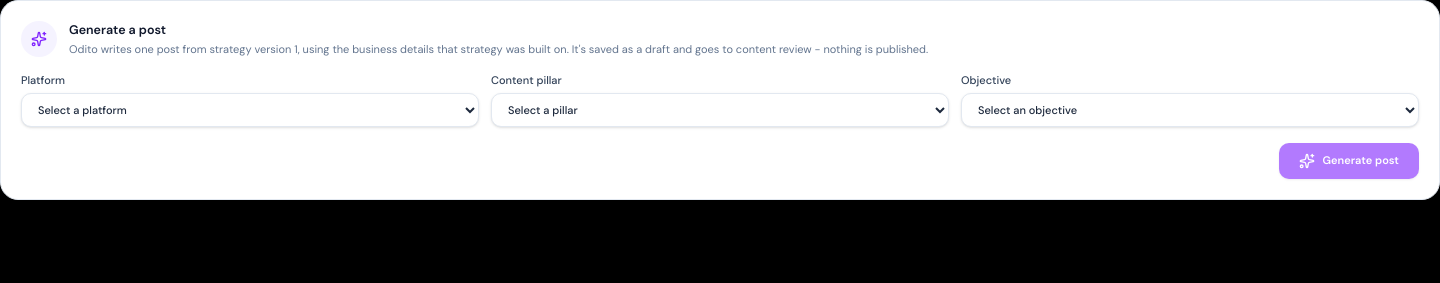
it: Single-post generator - the result is the REAL saved draft › if the draft was deleted afterwards, it says so instead of showing invented content
This screenshot has width=1440, height=283.
Expected: the button with test id "generate-post-button" is shown, [1279,143,1419,179]
Select "Facebook" in the dropdown with test id "generator-platform". click: (250, 110)
box: [21,93,479,127]
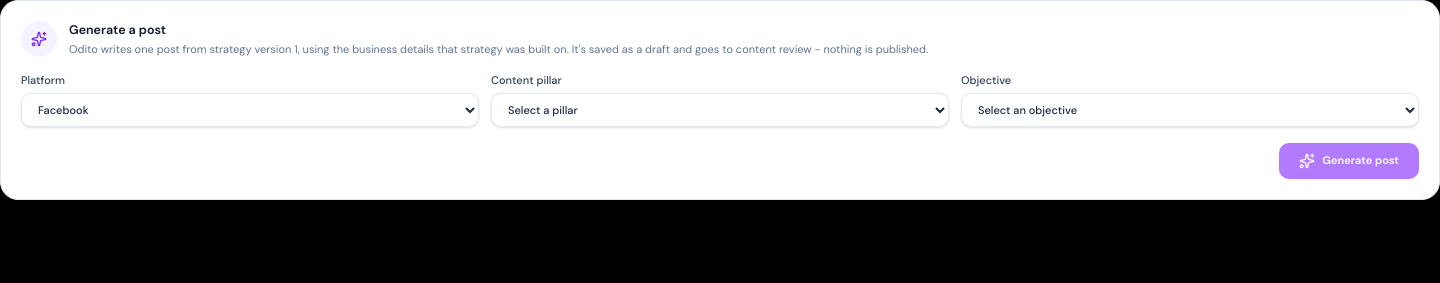
Select "Dental tips" in the dropdown with test id "generator-pillar". click: (720, 110)
box: [491,93,949,127]
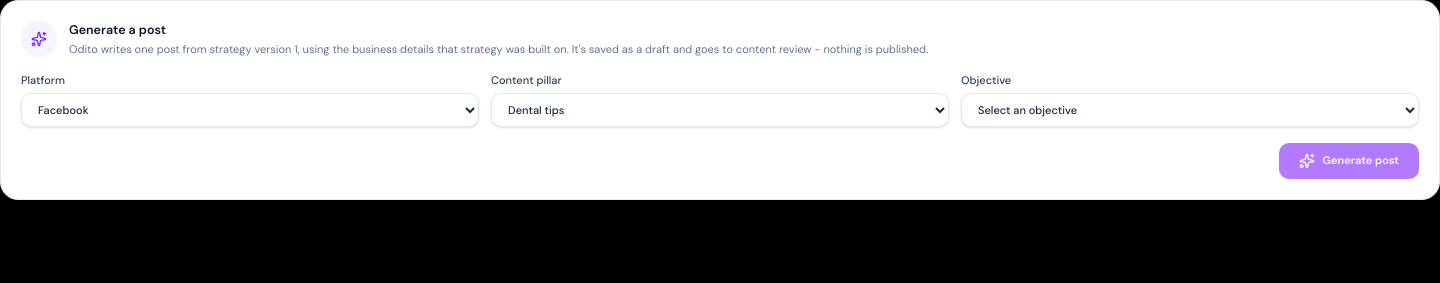
Select "Educational" in the dropdown with test id "generator-objective". click: (1190, 110)
box: [961,93,1419,127]
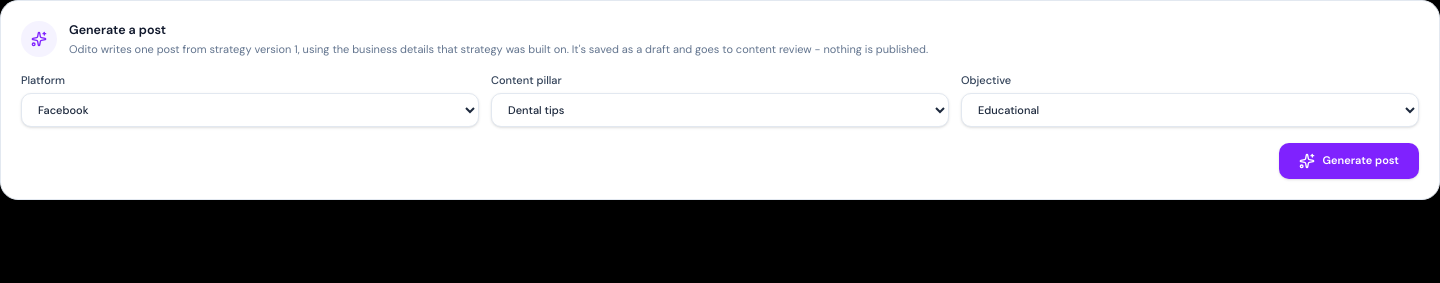
Click the button with test id "generate-post-button". click: (1349, 161)
box: [1279,143,1419,179]
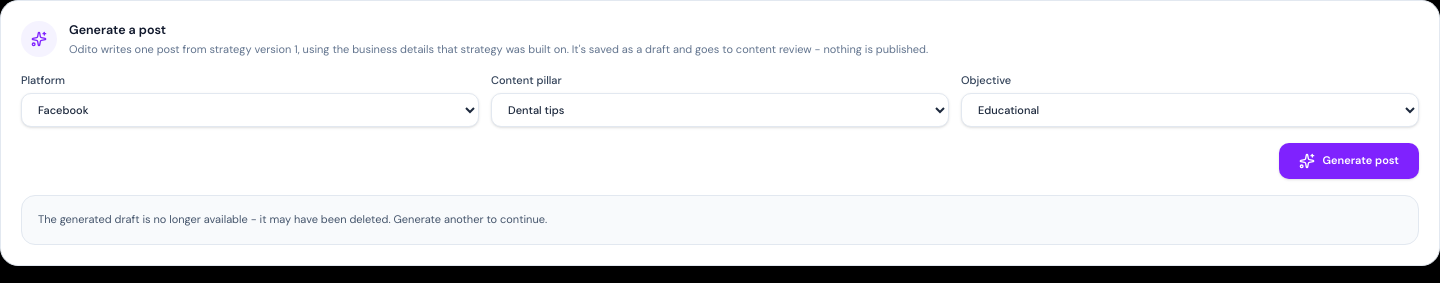
Expected: the text with test id "generator-draft-missing" shows "no longer available", [38,212,547,226]
